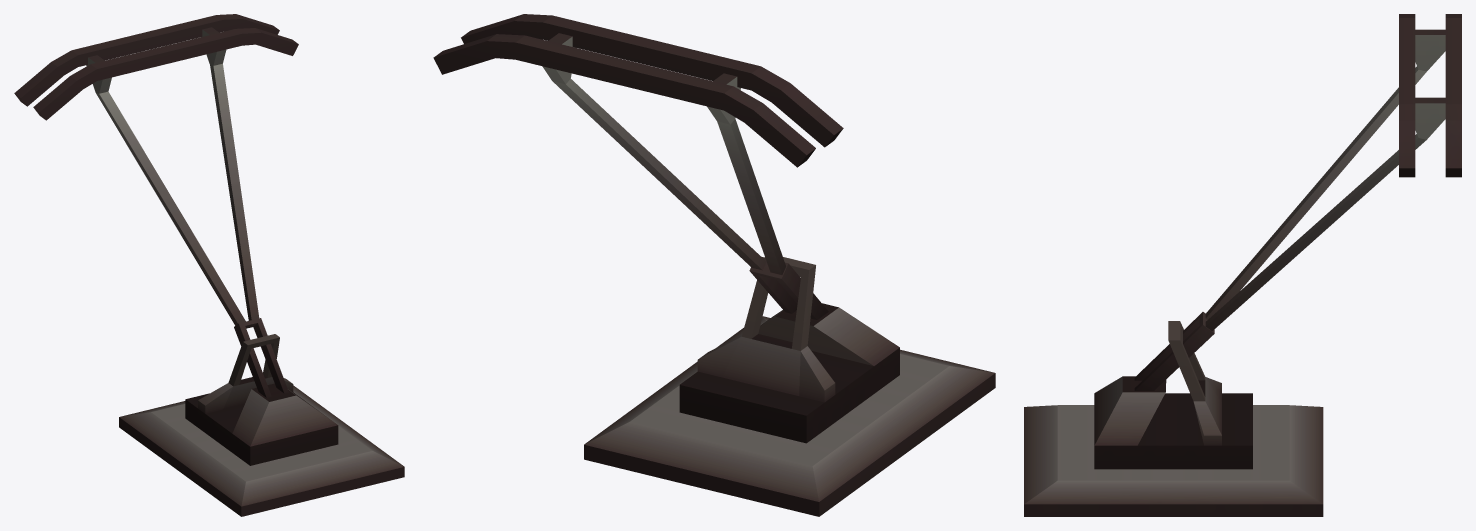
File: SM_Tram_lock.fbx
The picture shows the model from 3 angles, left to right: view 1: azimuth 30°, elevation 25°; view 2: azimuth 150°, elevation 25°; view 3: azimuth 270°, elevation 25°; orthographic projection. The views are drawn at different scales.
Visible parts, largest first — view 1: Cube.062; view 2: Cube.062; view 3: Cube.062.
Boxes of the visible parts, left/top/right/bottom form: Cube.062: left=14, top=14, right=404, bottom=516; Cube.062: left=433, top=14, right=995, bottom=516; Cube.062: left=1024, top=14, right=1461, bottom=516.
Size of the model in its own units: 200 by 246 by 240.
